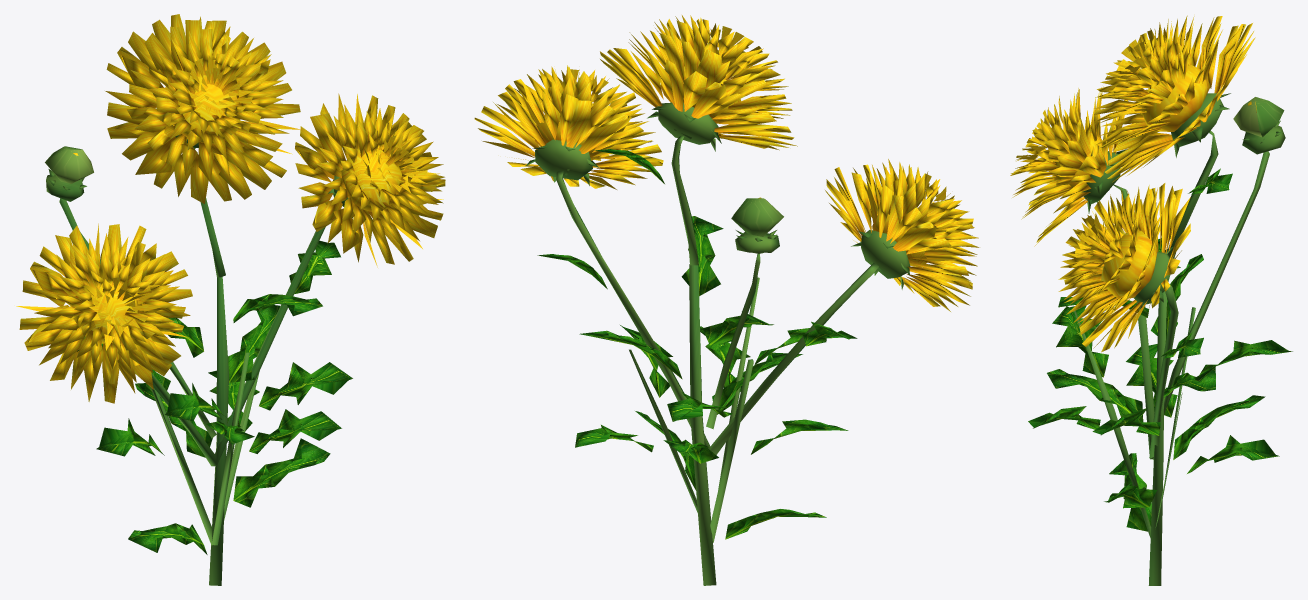
Rendered from NP_Chrysanthemum_Ready_LOD1.fbx.
3 views of the same model, side by side, from view 1: azimuth 30°, elevation 25°; view 2: azimuth 150°, elevation 25°; view 3: azimuth 270°, elevation 25° (orthographic). The views are drawn at different scales.
Parts seen in each view (by area): view 1: NP_Chrysanthemum_Ready; view 2: NP_Chrysanthemum_Ready; view 3: NP_Chrysanthemum_Ready.
Boxes of the visible parts, bbox=[...] form: NP_Chrysanthemum_Ready: bbox=[16, 14, 445, 585]; NP_Chrysanthemum_Ready: bbox=[474, 15, 979, 585]; NP_Chrysanthemum_Ready: bbox=[1010, 15, 1292, 585].
Bounding box in the file's own units: 68.59 × 80.59 × 37.09.
